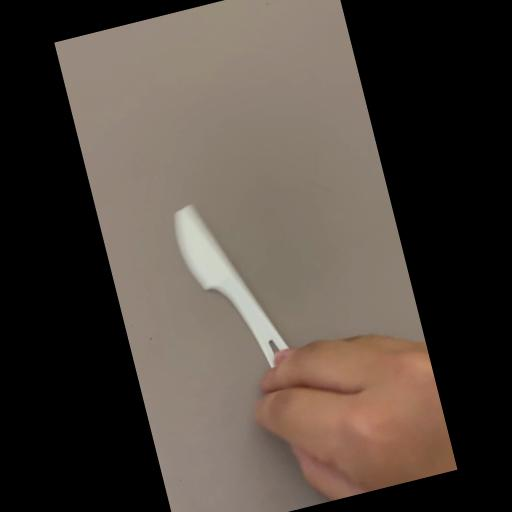utensil: (164, 182, 304, 419)
